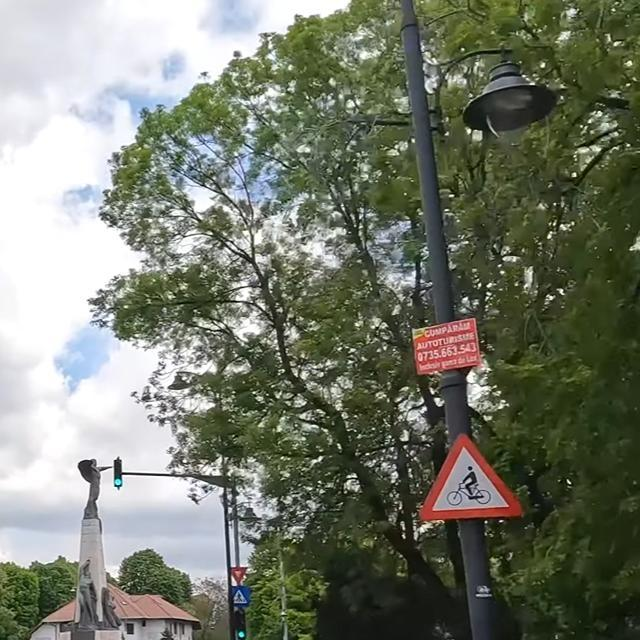info_crosswalk: (230, 585, 250, 607)
prio_give_way: (232, 567, 248, 585)
